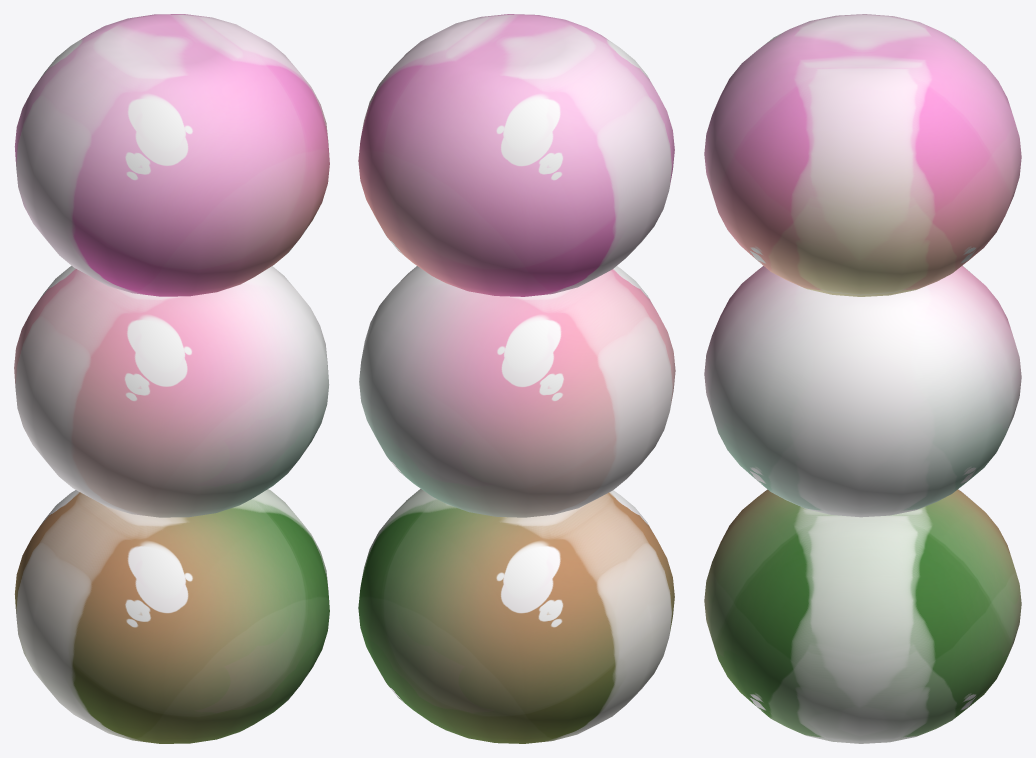
File: Danngomoderu.fbx
3 views of the same model, side by side, from view 1: azimuth 30°, elevation 25°; view 2: azimuth 150°, elevation 25°; view 3: azimuth 270°, elevation 25° (orthographic).
Parts seen in each view (by area): view 1: pSphere1, pSphere4, pSphere3; view 2: pSphere1, pSphere4, pSphere3; view 3: pSphere1, pSphere4, pSphere3.
Boxes of the visible parts, <box> form: pSphere1: <box>14,14,329,296</box>; pSphere4: <box>14,489,329,743</box>; pSphere3: <box>14,266,329,517</box>; pSphere1: <box>358,14,674,296</box>; pSphere4: <box>358,488,674,743</box>; pSphere3: <box>359,266,675,517</box>; pSphere1: <box>704,14,1021,296</box>; pSphere4: <box>704,489,1021,743</box>; pSphere3: <box>704,265,1021,517</box>.
Bounding box in the file's own units: 5.87 × 13.68 × 5.86.
3 materials, 3 textured.
